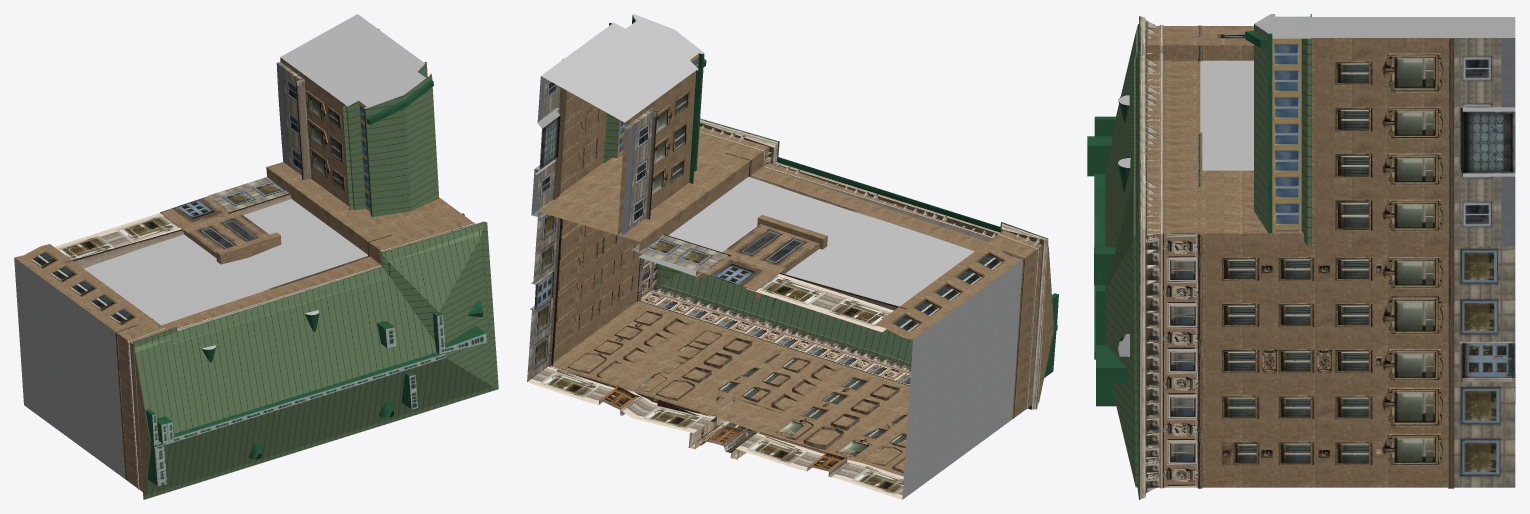
File: VabaduseValjak6-origo.obj
The picture shows the model from 3 angles, left to right: view 1: azimuth 30°, elevation 25°; view 2: azimuth 150°, elevation 25°; view 3: azimuth 270°, elevation 25°; orthographic projection. The views are drawn at different scales.
Visible parts, largest first — view 1: 221_Vabaduse_valjak_6; view 2: 221_Vabaduse_valjak_6; view 3: 221_Vabaduse_valjak_6.
Boxes of the visible parts, x1,y1,x2,y2 form: 221_Vabaduse_valjak_6: (14, 14, 498, 499); 221_Vabaduse_valjak_6: (527, 14, 1058, 499); 221_Vabaduse_valjak_6: (1087, 14, 1515, 499).
Bounding box in the file's own units: 39.5 × 32.5 × 26.01.
